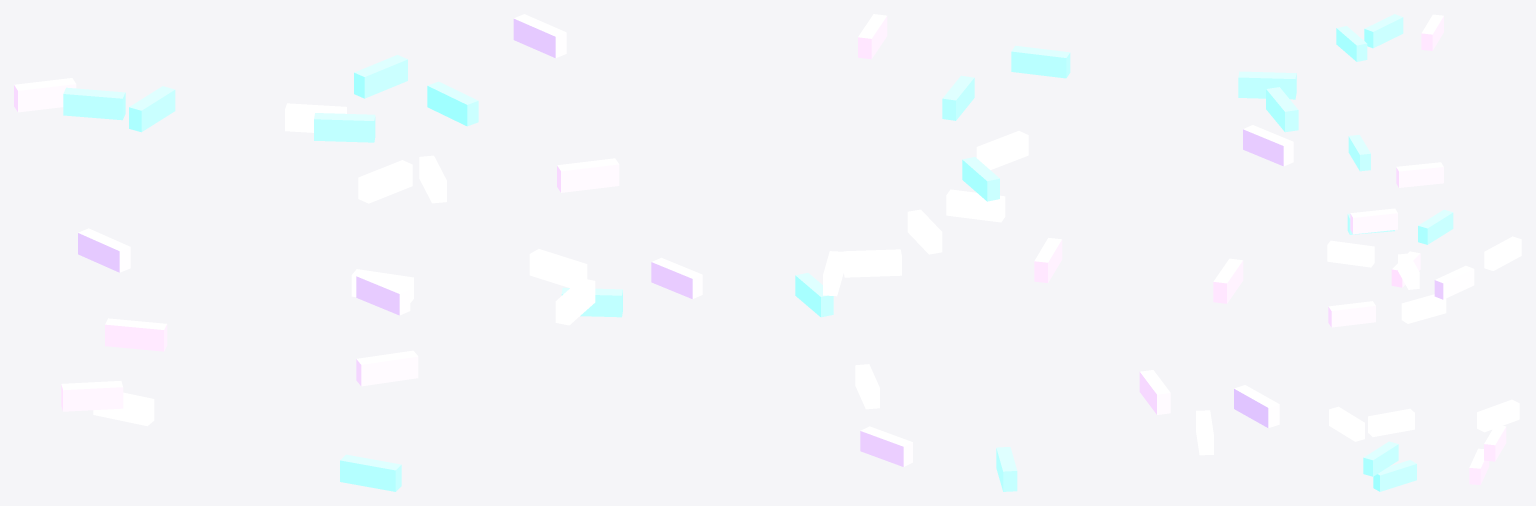
File: glitchout.glb
3 renders of one model, left to right at view 1: azimuth 30°, elevation 25°; view 2: azimuth 150°, elevation 25°; view 3: azimuth 270°, elevation 25°, orthographic. The views are drawn at different scales.
Visible parts, largest first — view 1: Glitch Out dimensional effect.001; view 2: Glitch Out dimensional effect.001; view 3: Glitch Out dimensional effect.001.
Boxes of the visible parts, x1,y1,x2,y2 form: Glitch Out dimensional effect.001: [14, 14, 622, 491]; Glitch Out dimensional effect.001: [651, 14, 1298, 491]; Glitch Out dimensional effect.001: [1327, 14, 1521, 491].
Bounding box in the file's own units: 1.7 × 1.19 × 0.5896.
